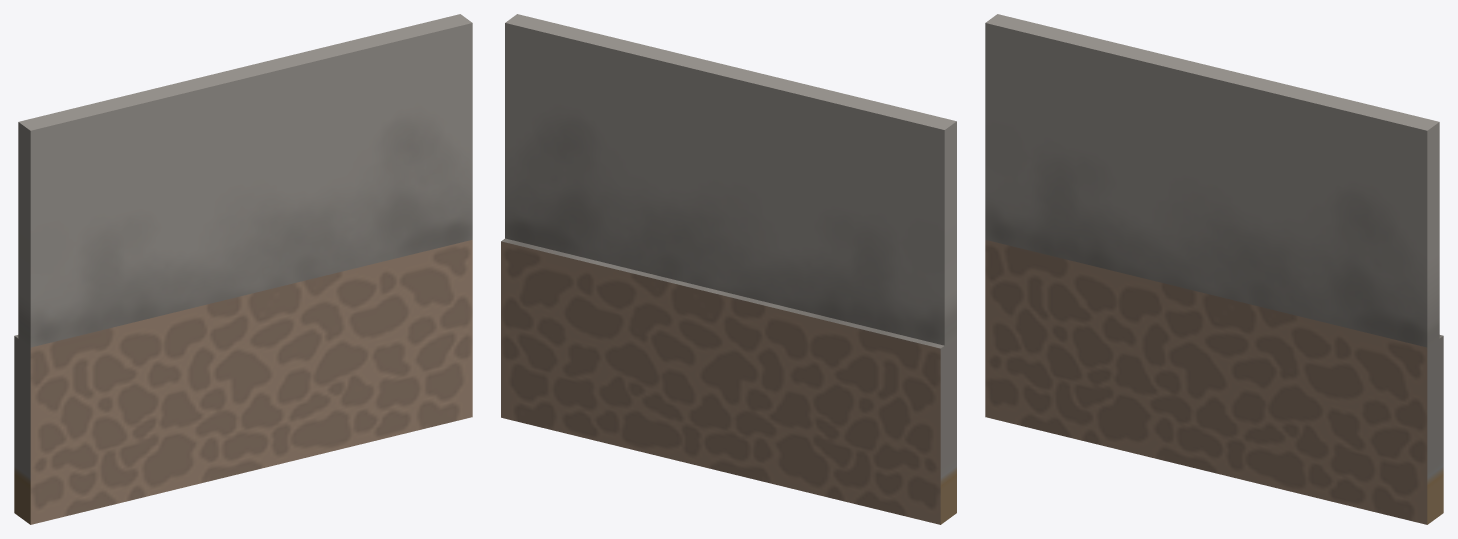
Rendered from GrayBrown_ModularLowWall.fbx.
The picture shows the model from 3 angles, left to right: view 1: azimuth 30°, elevation 25°; view 2: azimuth 150°, elevation 25°; view 3: azimuth 330°, elevation 25°; orthographic projection.
Visible parts, largest first — view 1: Cube.006; view 2: Cube.006; view 3: Cube.006.
Boxes of the visible parts, bbox=[...] form: Cube.006: bbox=[14, 14, 472, 524]; Cube.006: bbox=[501, 14, 956, 524]; Cube.006: bbox=[985, 14, 1443, 524].
Size of the model in its own units: 4.14 by 3.53 by 0.2635.
